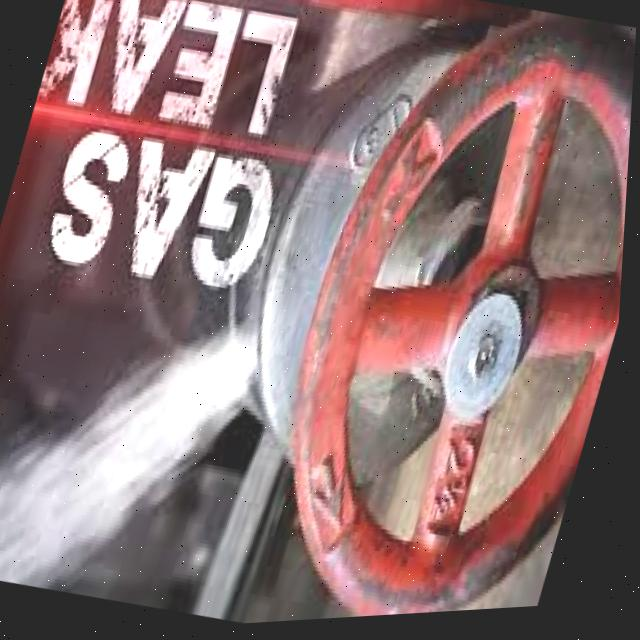corrosion: (134, 139, 356, 463)
